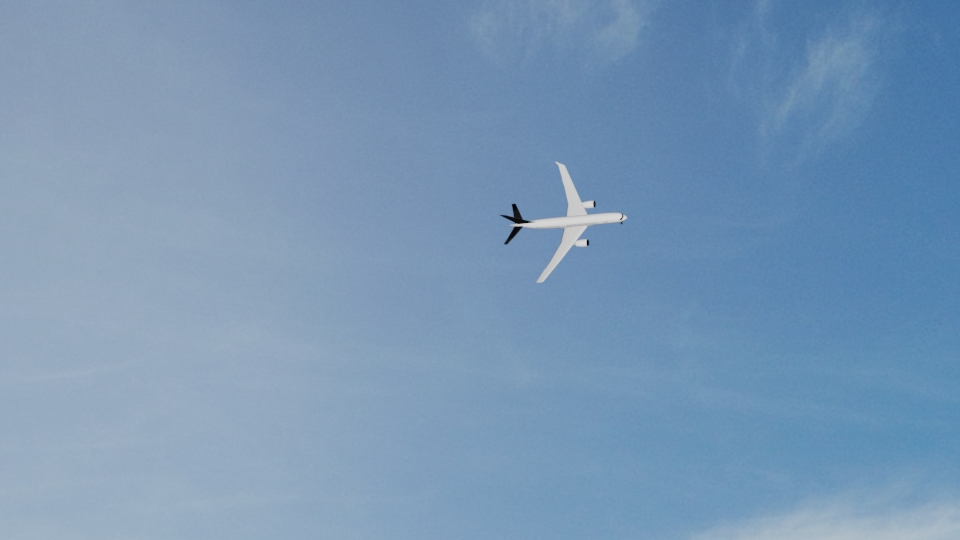plane: (500, 157, 627, 284)
